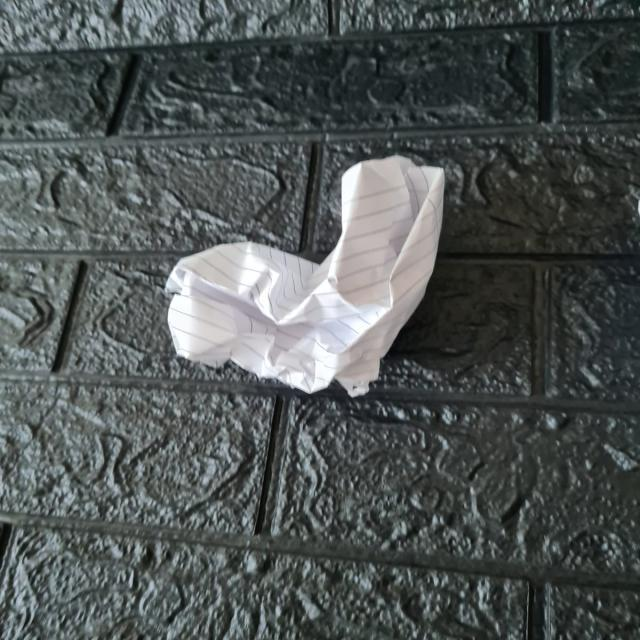Paper: (168, 160, 447, 399)
